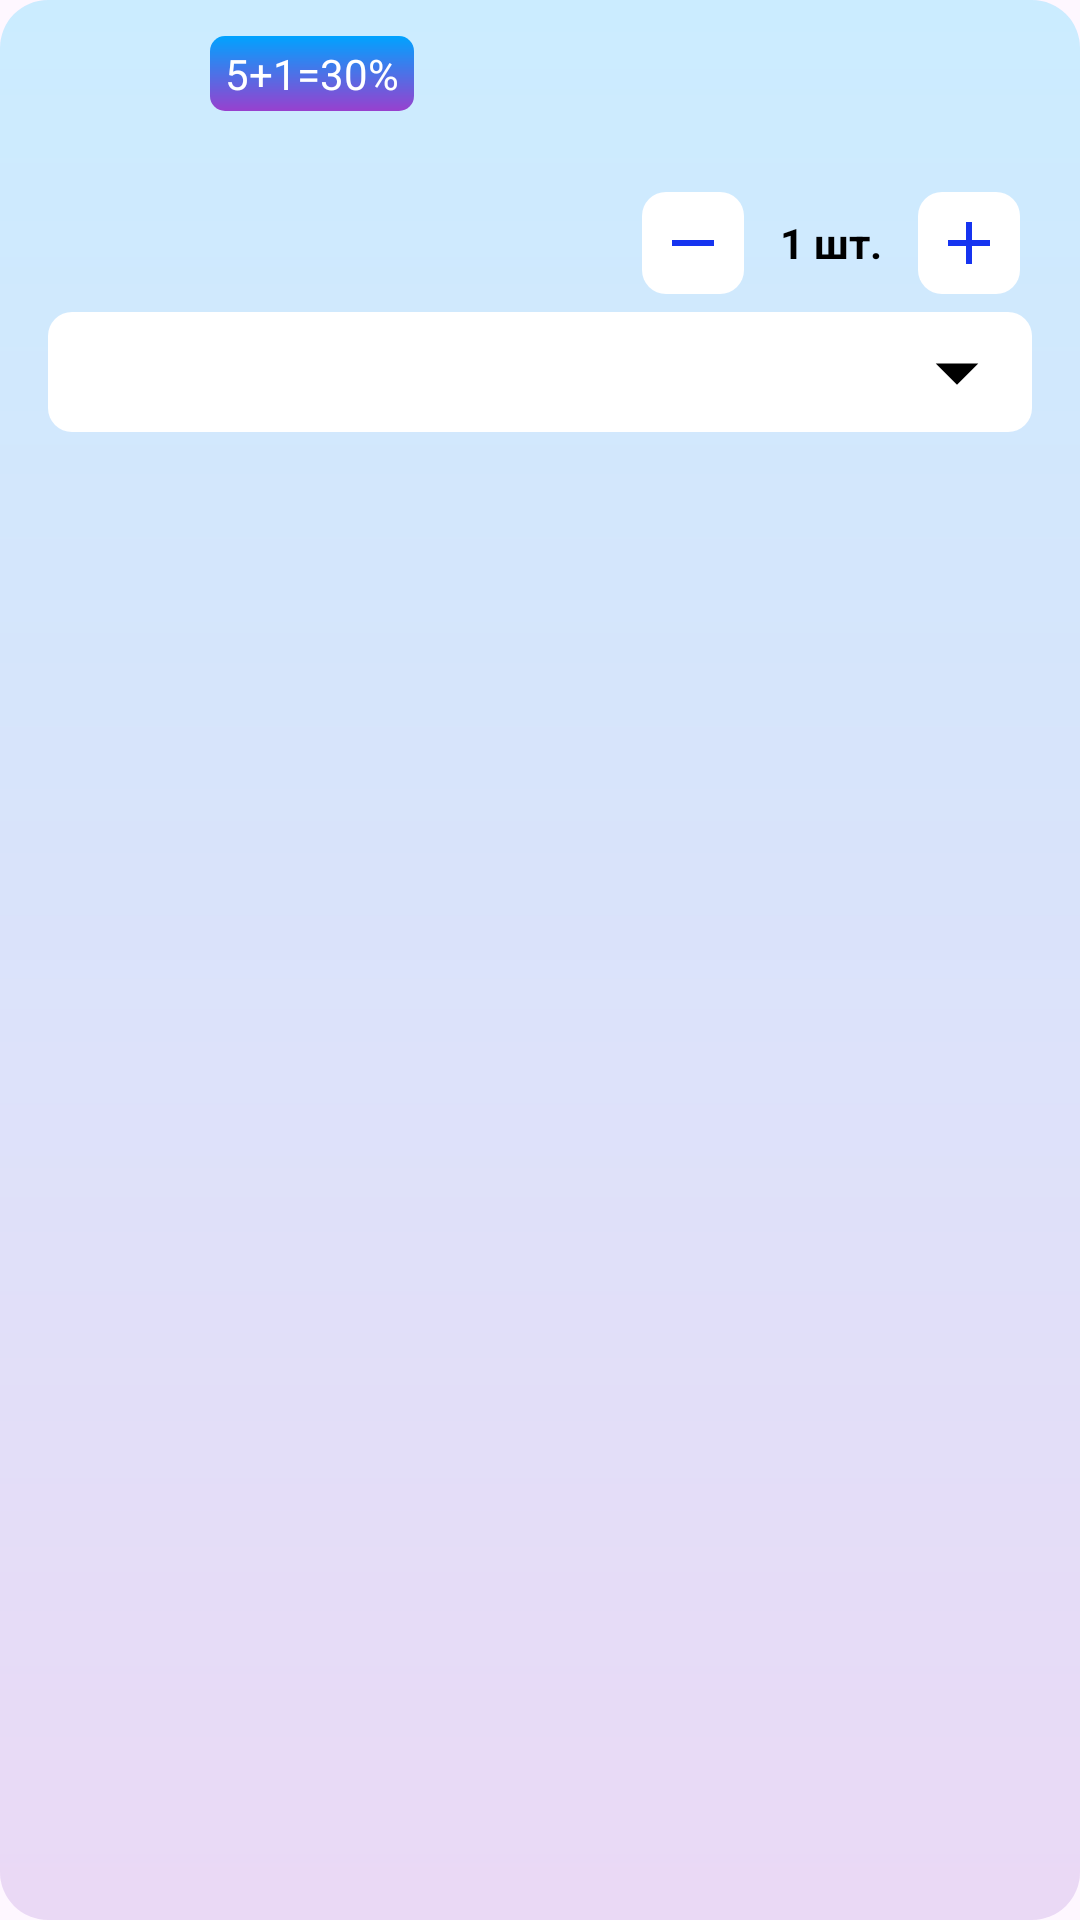

Icon bounding boxes for this 1080 x 1920 phone screenshot, format (x1, y1, x2, y2):
arrow drop down: (936, 363, 978, 385)
minus: (642, 192, 744, 294)
plus: (918, 192, 1020, 294)
